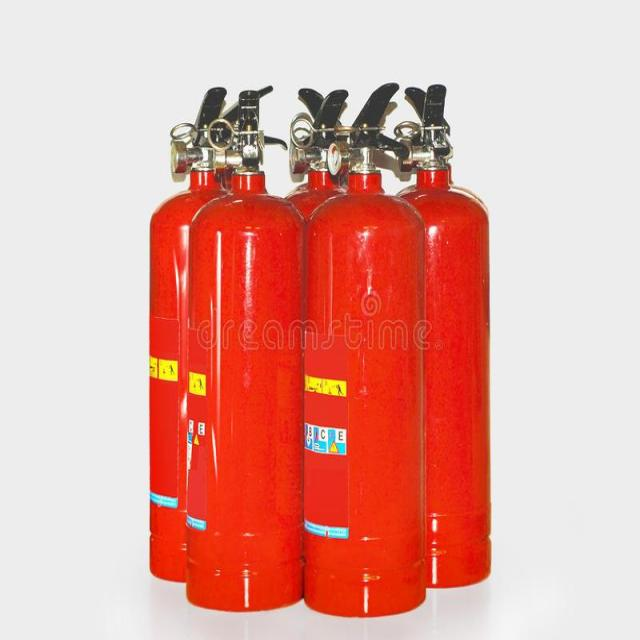fire_extinguisher: (180, 84, 326, 613), (298, 75, 434, 622), (360, 77, 494, 590), (144, 78, 277, 586)
